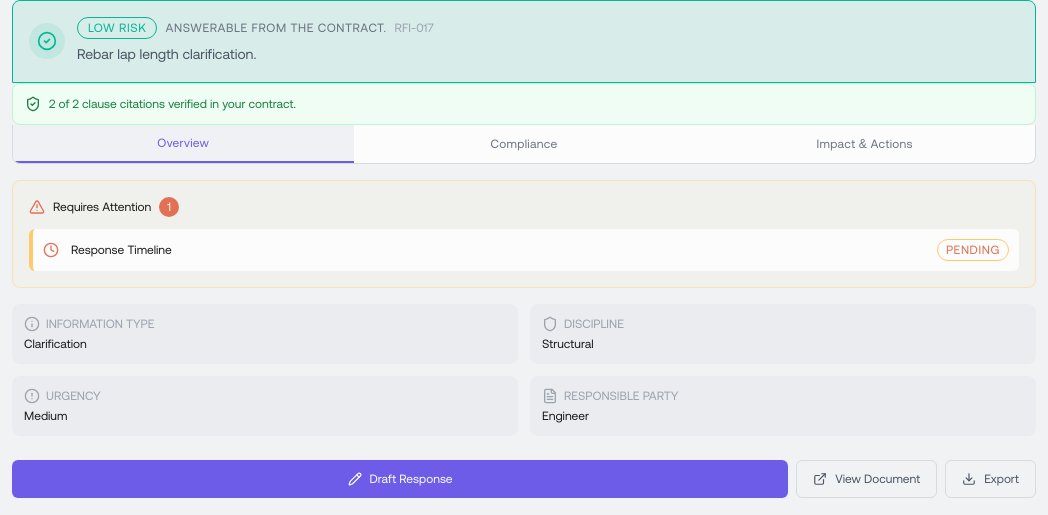
Test: RFIAnalysis citation badges › badges implications and linked references too
Step 1. Click the button "Impact & Actions" → (865, 144), box x1=694 y1=125 x2=1035 y2=163
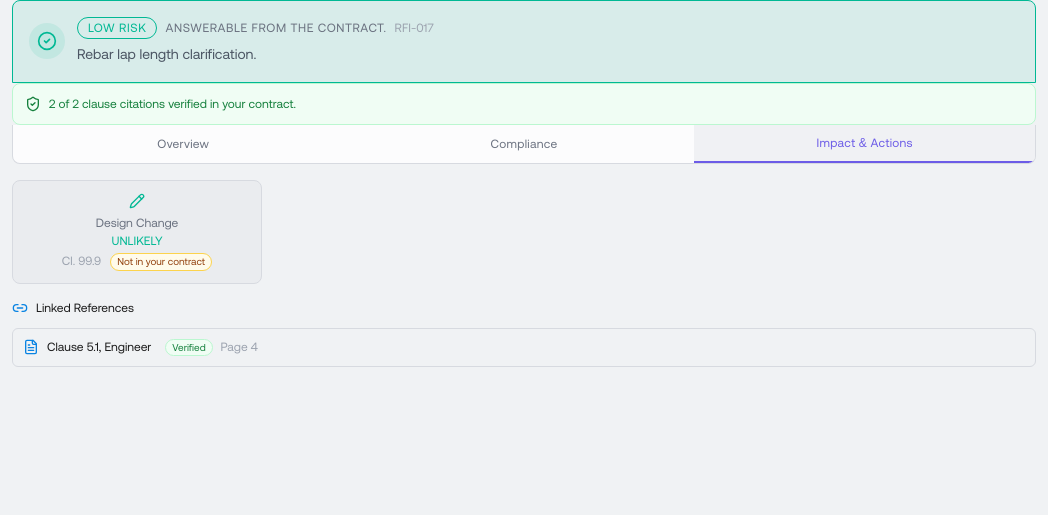
Result: the text "Not in your contract" is shown at x1=110 y1=253 x2=212 y2=271
